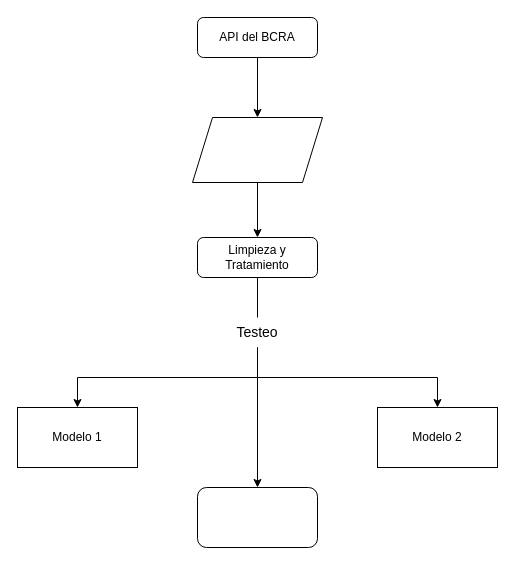
The diagram is 515 pixels wide and 565 high, and some of its shapes have lost their labels. Each missing label, with the centre of its shape:
Datos Financieros: the point at 257,149
Modelo 3: the point at 257,517
